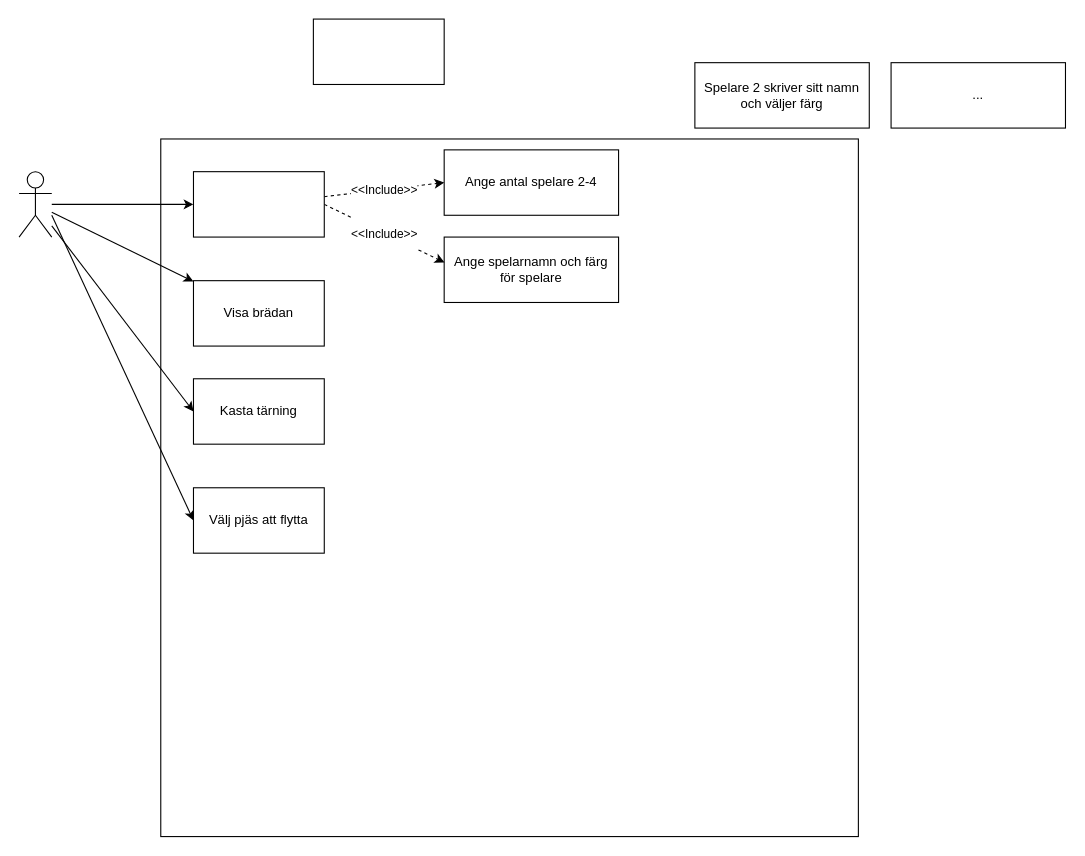
This 1085x856 diagram has some shape labels left out. Each missing label, with the centre of its shape:
"Spelmeny" goes at pixel 258 204.
"Speluppsättning" goes at pixel 378 51.
"User" goes at pixel 35 204.
